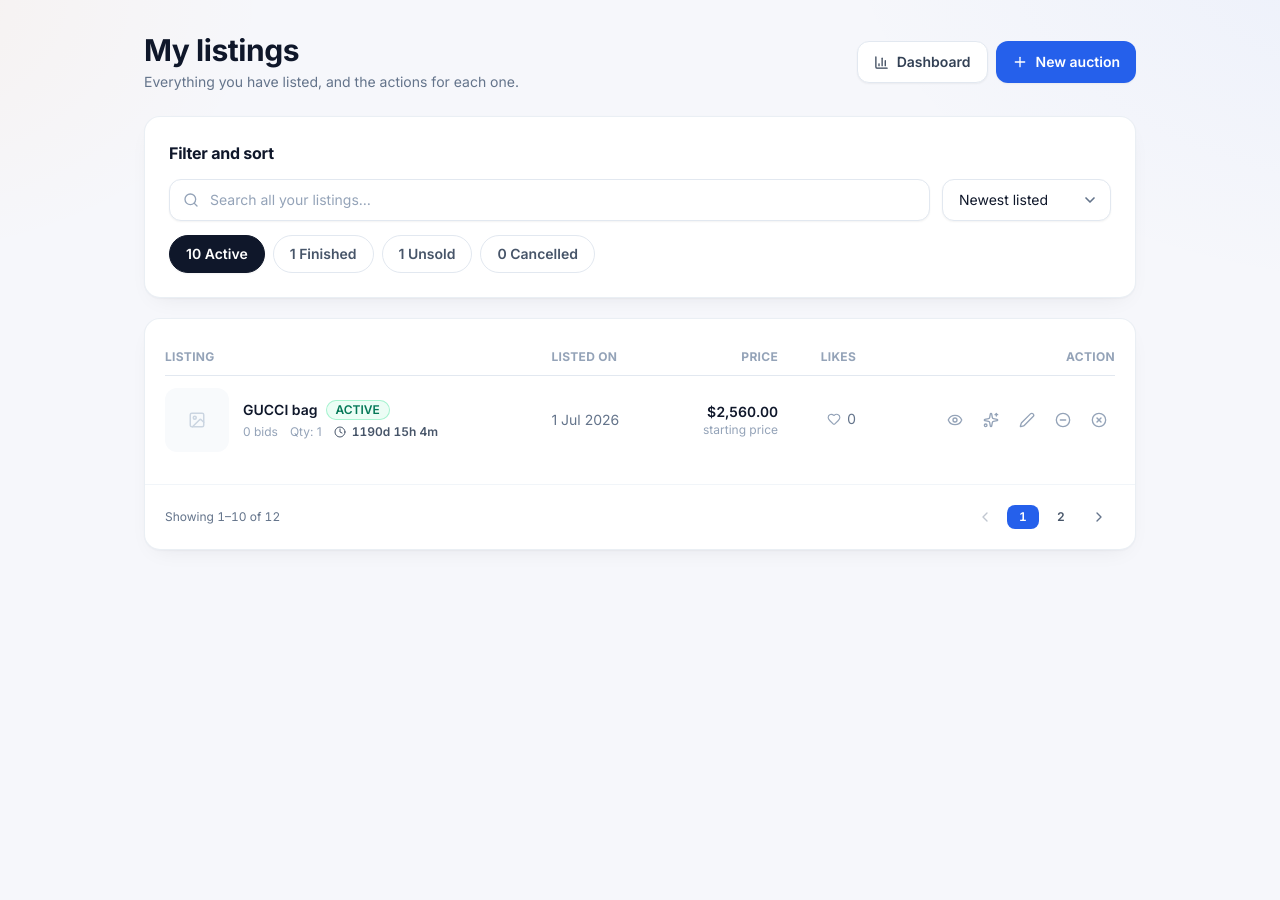
Test: cancelling records a reason › says plainly when there is nobody to notify
The image size is (1280, 900).
Click the button named "cancel this auction" at x=1099, y=420, box [1083, 404, 1115, 436]
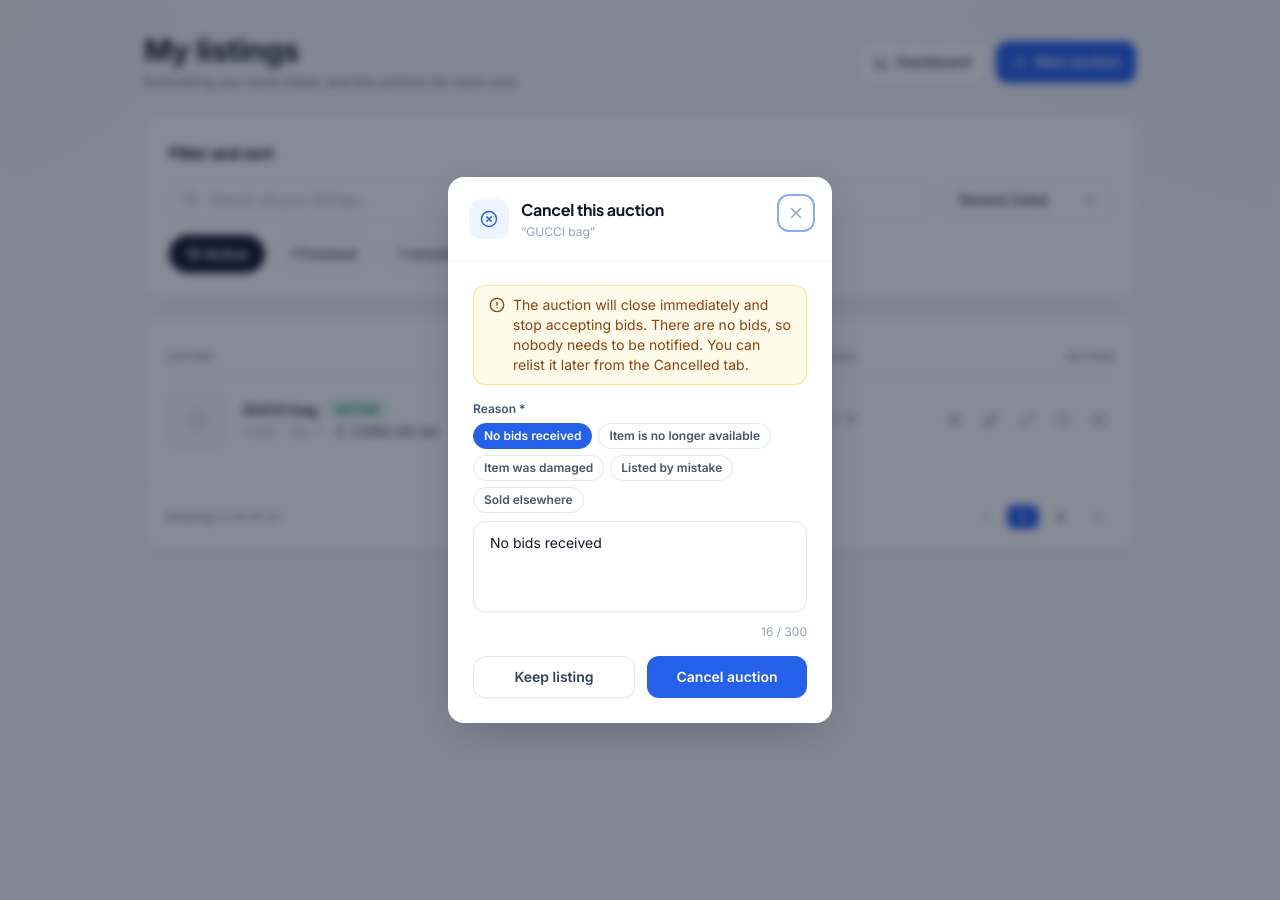
Result: the text "no bids, so nobody needs to be notified" is shown at [513, 316, 791, 353]
